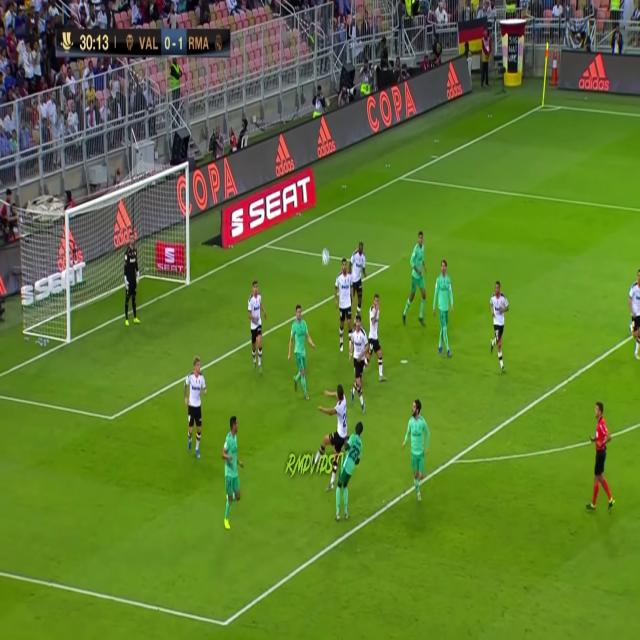Ball: (318, 245, 332, 268)
GoalKeeper: (122, 232, 142, 325)
TEAM 1: (314, 385, 348, 464), (334, 260, 357, 349), (185, 362, 207, 452), (350, 314, 372, 401), (247, 280, 266, 370), (491, 282, 512, 363), (627, 259, 640, 365), (368, 294, 383, 382), (349, 242, 365, 305)
TEAM 2: (329, 424, 366, 522), (401, 402, 430, 502), (286, 306, 315, 400), (404, 232, 430, 324), (221, 416, 243, 520), (431, 261, 454, 359)
